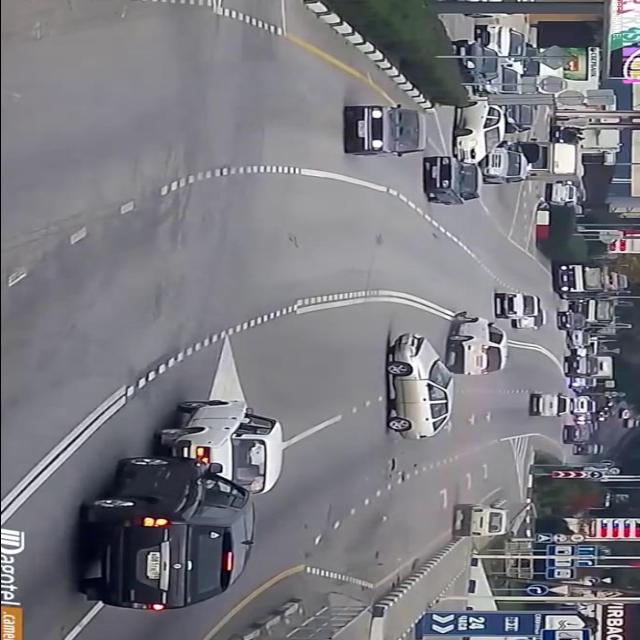accident: (367, 306, 516, 450)
non_accident: (58, 390, 306, 618), (334, 23, 586, 209)
